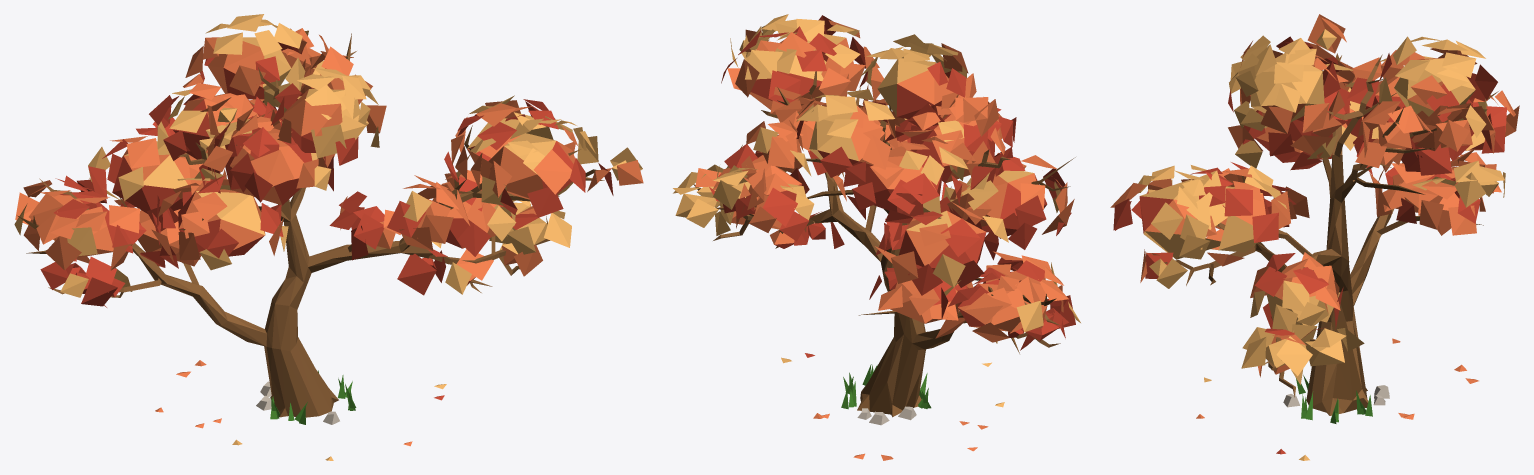
Rendered from cherry_2_autumn.glb.
The picture shows the model from 3 angles, left to right: view 1: azimuth 30°, elevation 25°; view 2: azimuth 150°, elevation 25°; view 3: azimuth 270°, elevation 25°; orthographic projection. The views are drawn at different scales.
Parts seen in each view (by area): view 1: cherry_2_autumn; view 2: cherry_2_autumn; view 3: cherry_2_autumn.
Part boxes in pixels (bbox=[...]): cherry_2_autumn: bbox=[14, 14, 643, 460]; cherry_2_autumn: bbox=[673, 14, 1080, 460]; cherry_2_autumn: bbox=[1110, 14, 1519, 460].
Size of the model in its own units: 10.07 by 7.1 by 7.29.
